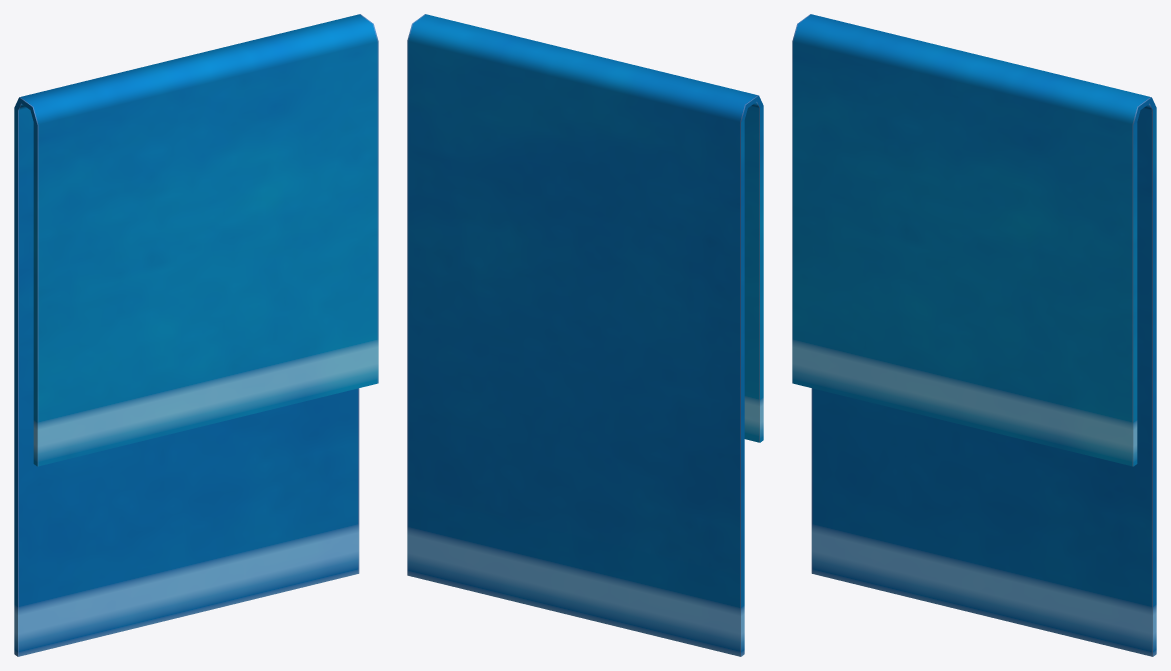
File: Towel_2.fbx
3 views of the same model, side by side, from view 1: azimuth 30°, elevation 25°; view 2: azimuth 150°, elevation 25°; view 3: azimuth 330°, elevation 25° (orthographic). The views are drawn at different scales.
Visible parts, largest first — view 1: polySurface680; view 2: polySurface680; view 3: polySurface680.
Part boxes in pixels (box(x1,y1,x2,y2)): polySurface680: box(14, 14, 378, 656); polySurface680: box(407, 14, 763, 656); polySurface680: box(792, 14, 1156, 656).
Size of the model in its own units: 0.5225 by 0.8201 by 0.0617.
